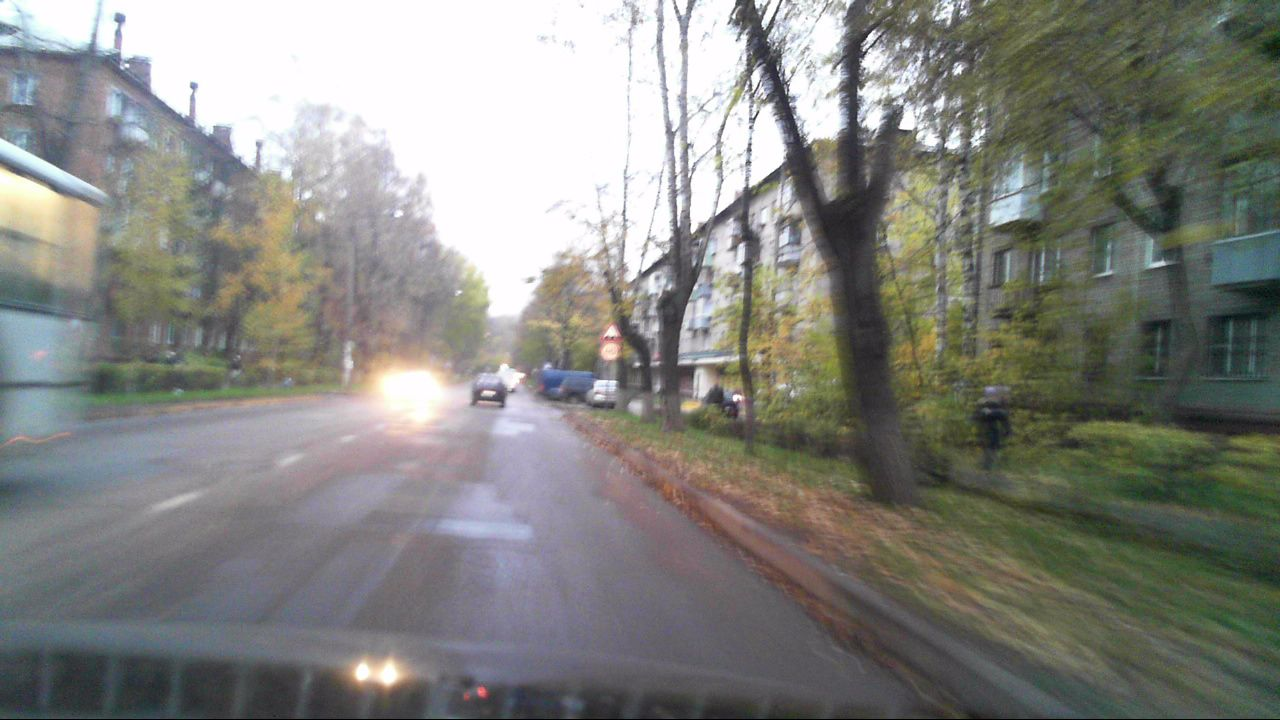speed_warning_40: (600, 342, 619, 361)
